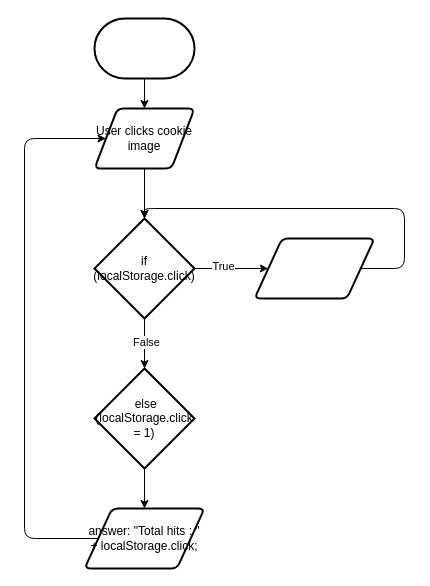
The diagram is 430 pixels wide and 586 high, and some of its shapes have lost their labels. The centre of each missing label's shape, as x and y in pixels:
localStorage.click = Number(localStorage.click) +1;: the point at 314,268
Start: the point at 144,48
